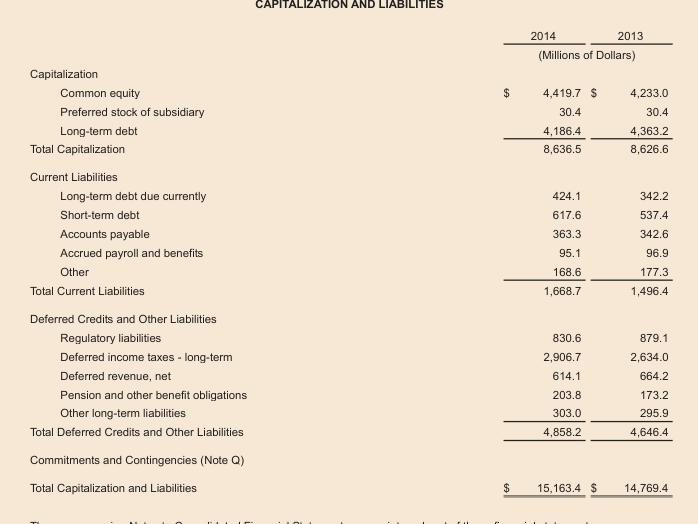table: (28, 28, 667, 493)
table column: (28, 28, 374, 493), (374, 28, 585, 493), (585, 28, 667, 493)
table column header: (28, 28, 667, 63)
table projected row header: (28, 445, 667, 473), (28, 303, 667, 327), (28, 162, 667, 185), (28, 63, 667, 82)
table row: (28, 445, 667, 473), (28, 303, 667, 327), (28, 421, 667, 445), (28, 139, 667, 162), (28, 162, 667, 185), (28, 280, 667, 303), (28, 473, 667, 493), (28, 44, 667, 63), (28, 63, 667, 82), (28, 82, 667, 101), (28, 101, 667, 120), (28, 120, 667, 139), (28, 185, 667, 204), (28, 204, 667, 223), (28, 223, 667, 242), (28, 242, 667, 261), (28, 261, 667, 280), (28, 327, 667, 346), (28, 346, 667, 365), (28, 365, 667, 384), (28, 384, 667, 403), (28, 403, 667, 421), (28, 28, 667, 44)
table spanning cell: (374, 44, 667, 63)
